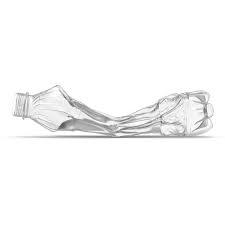bottle: (9, 77, 218, 148)
